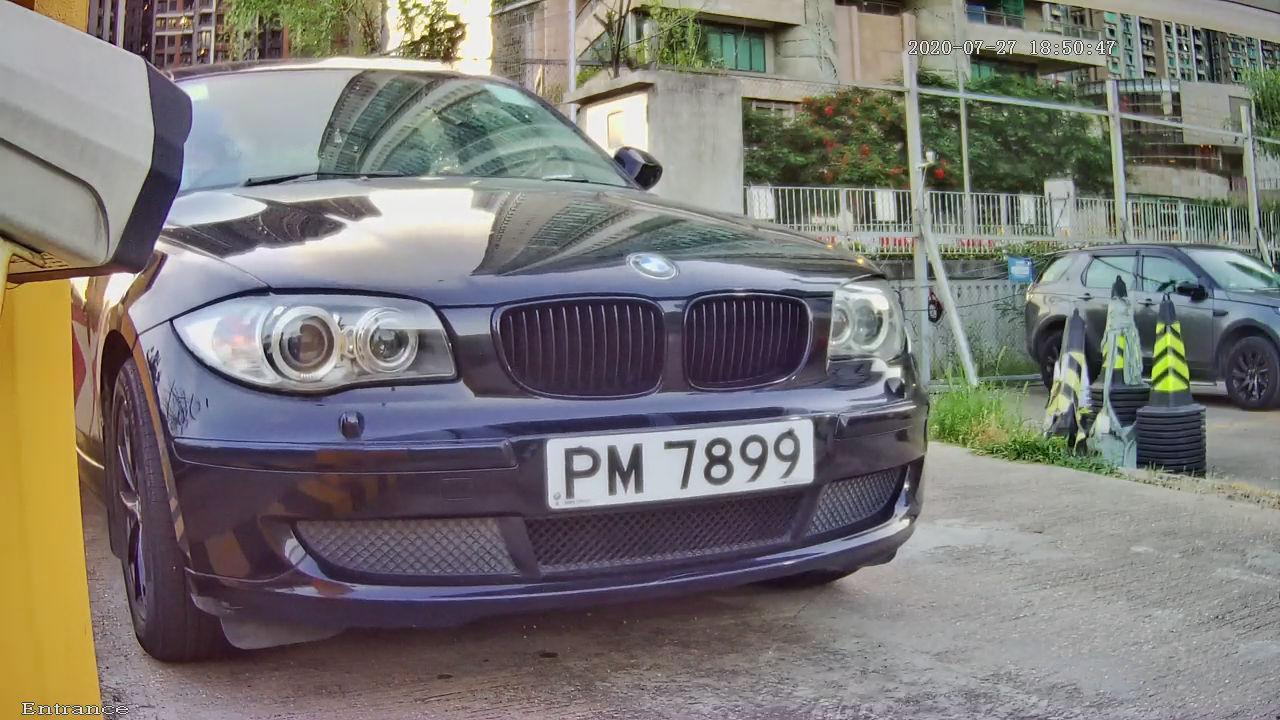privatecar: (58, 33, 1063, 653)
